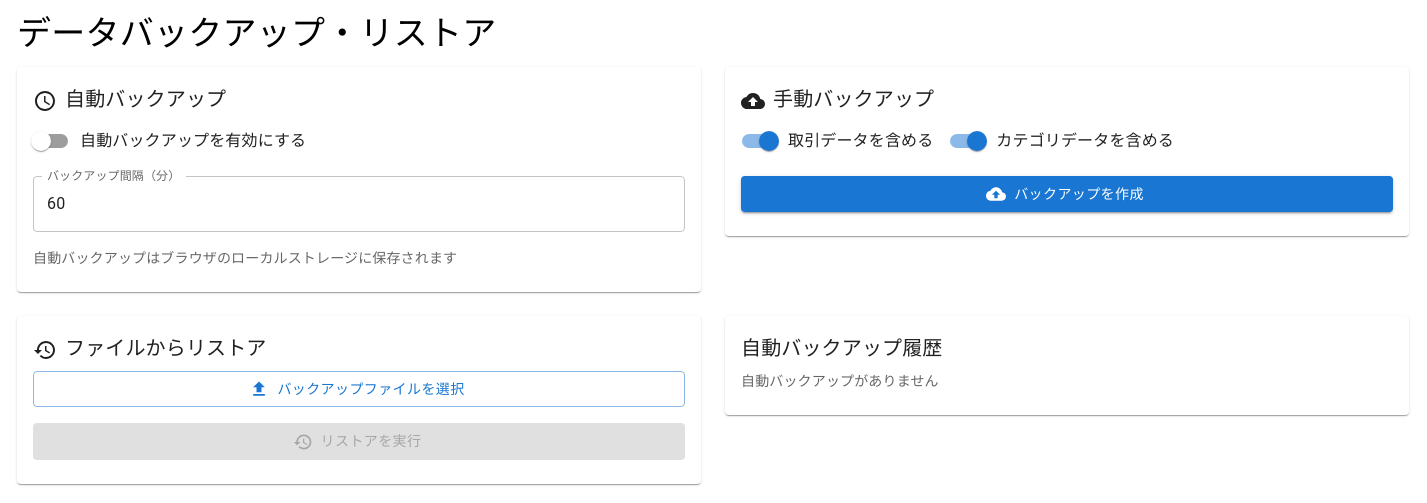
Scenario: DataBackup › manual backup functionality › should disable backup button when no data is selected
Click the switch labelled "取引データを含める". click: (838, 141)
box: top-left (742, 131), bottom-right (933, 151)
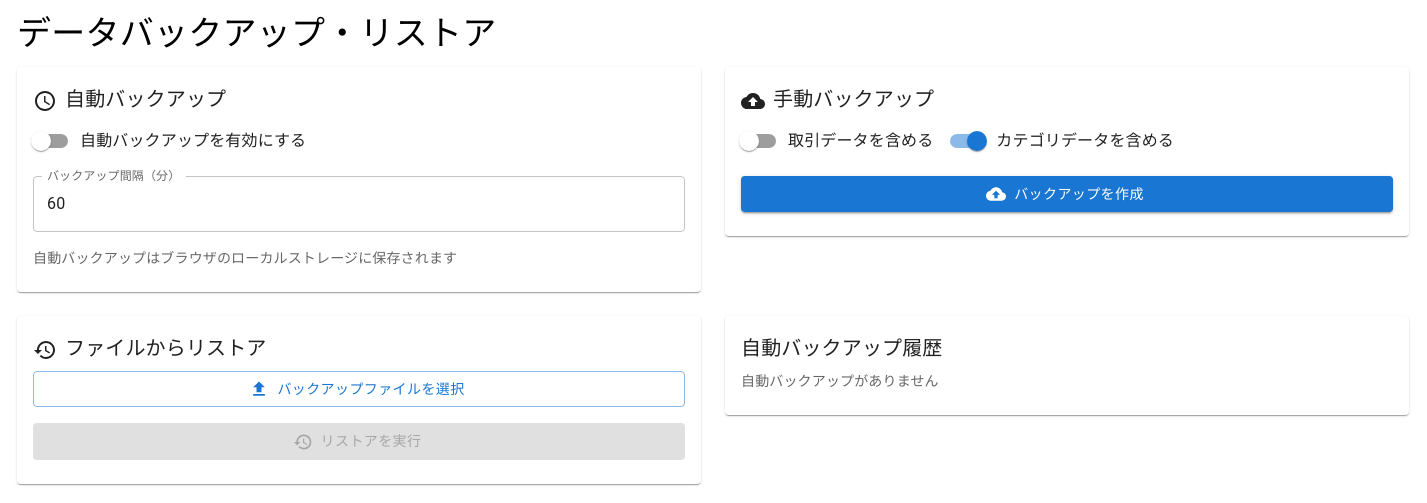
Click the switch labelled "カテゴリデータを含める". click: (1062, 141)
box: top-left (950, 131), bottom-right (1174, 151)
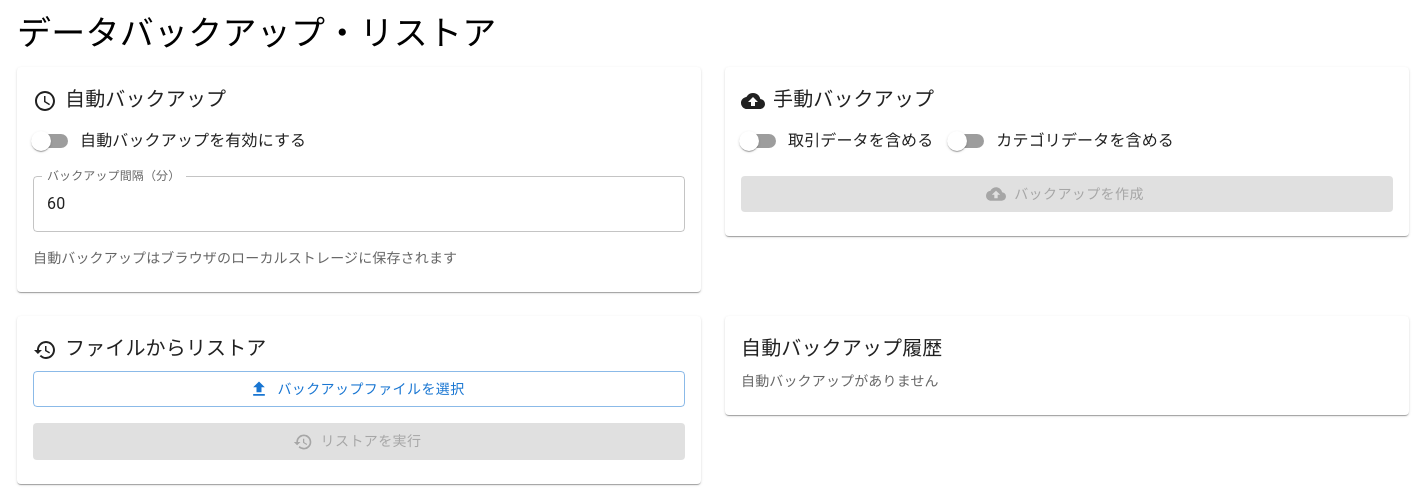
expect the button "バックアップを作成" is disabled: met, box top-left (741, 176), bottom-right (1393, 212)
